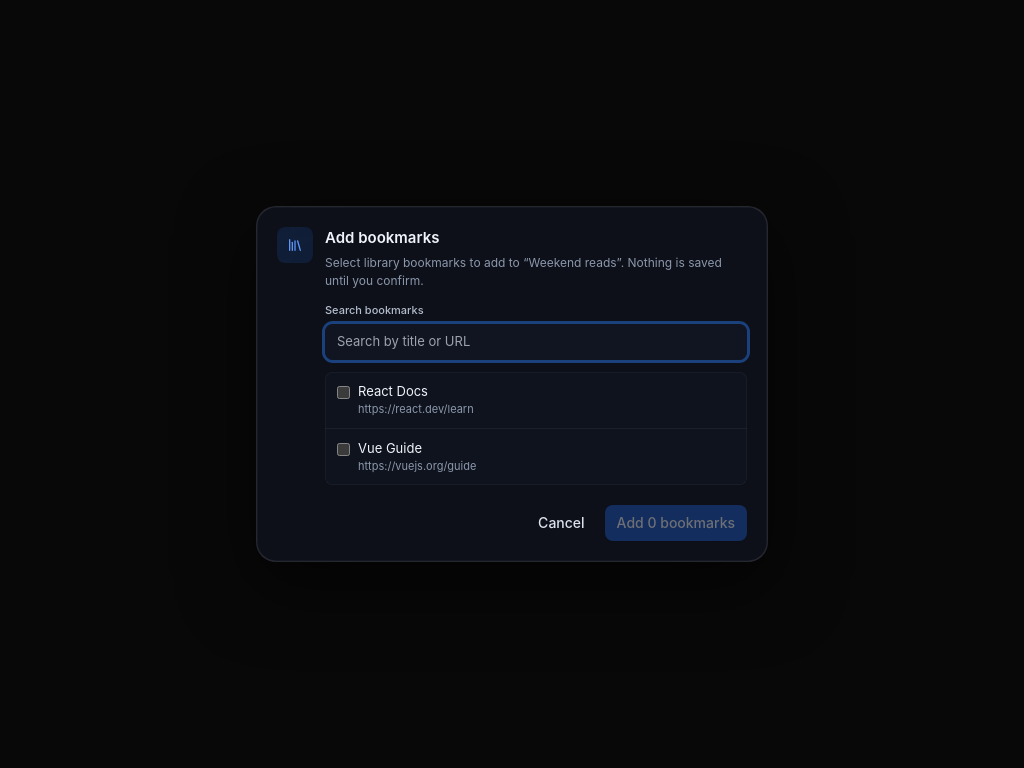
AddBookmarksToCollectionDialog › [组件] 挑选器 shall 排除已成员并支持搜索多选
Expected: the text "React Docs" is shown, [358,383,428,399]
Expected: the text "Vue Guide" is shown, [358,440,422,456]
Type "REACT" into the field labelled "Search bookmarks" at (536, 342), box [325,324,747,360]
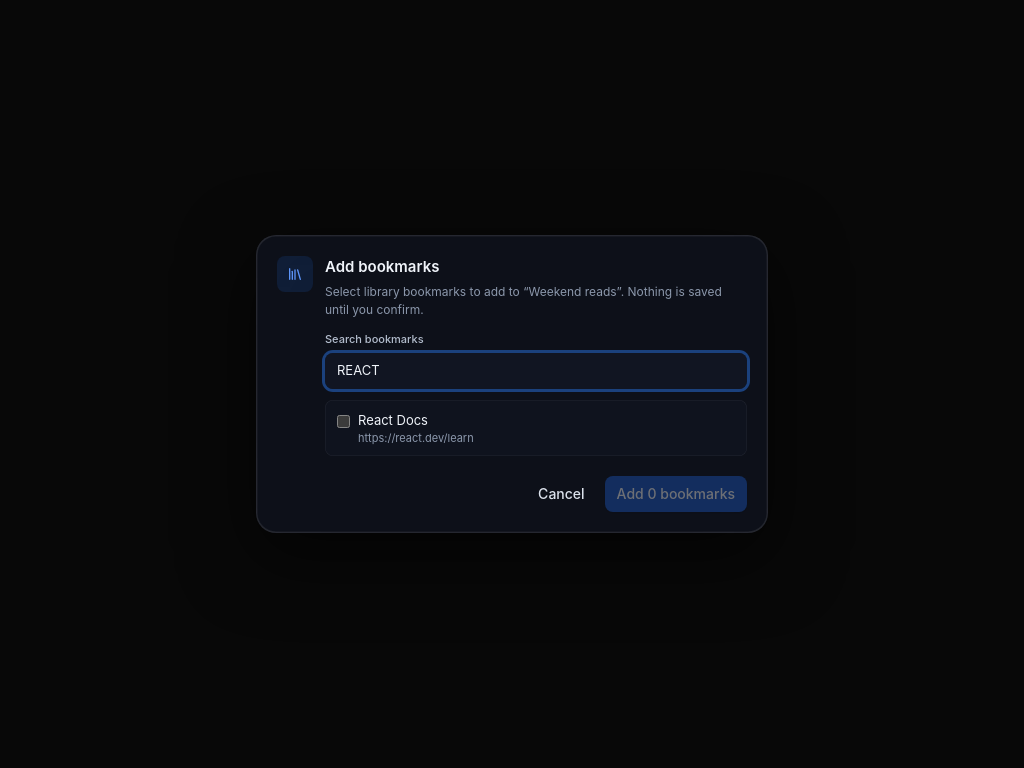
Expected: the text "React Docs" is shown, [358,411,428,427]
Result: the text "Vue Guide" is gone
Click the checkbox named "Select React Docs" at (344, 421), box [337,414,350,427]
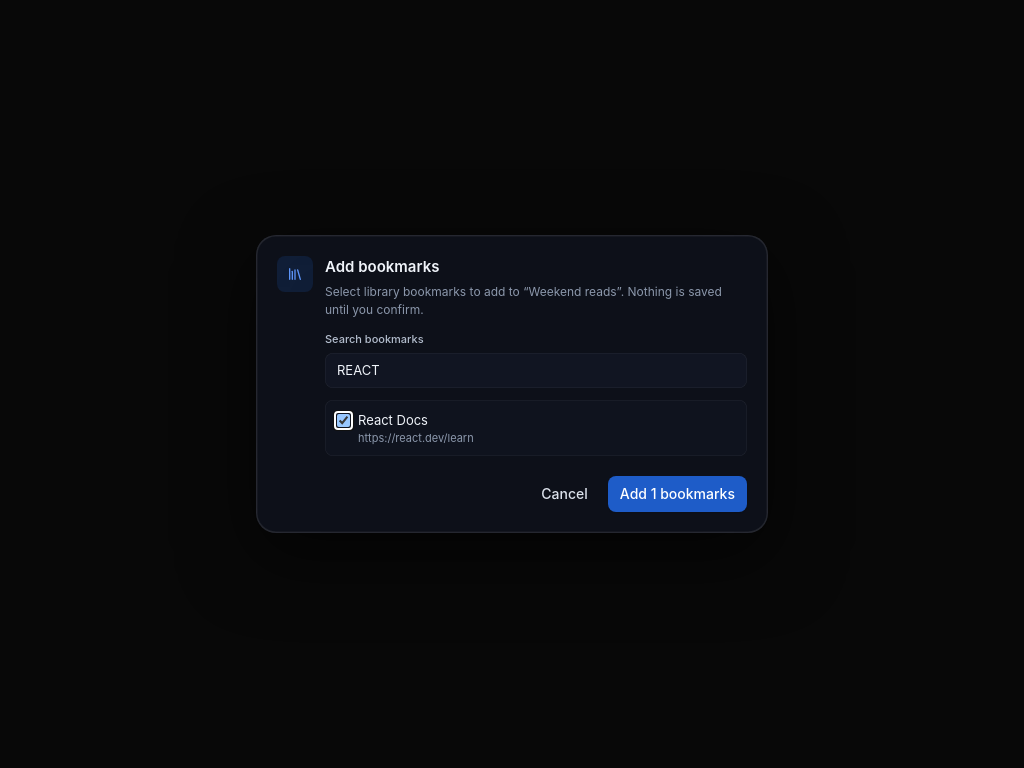
Result: the button with aria-label "Confirm add bookmarks" is enabled at [608,476,747,512]
